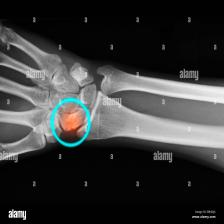impacted-fracture: (0, 21, 224, 175)
